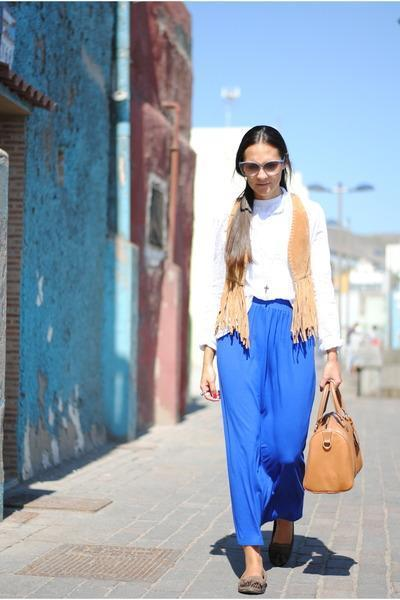bag: (303, 372, 362, 493)
pants: (214, 296, 316, 546)
shirt: (192, 192, 344, 349)
shoe: (252, 540, 290, 570)
